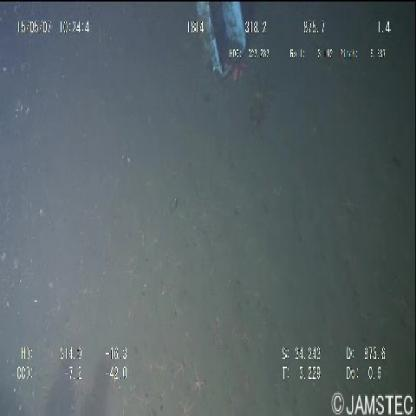Rác: (190, 2, 250, 90)
